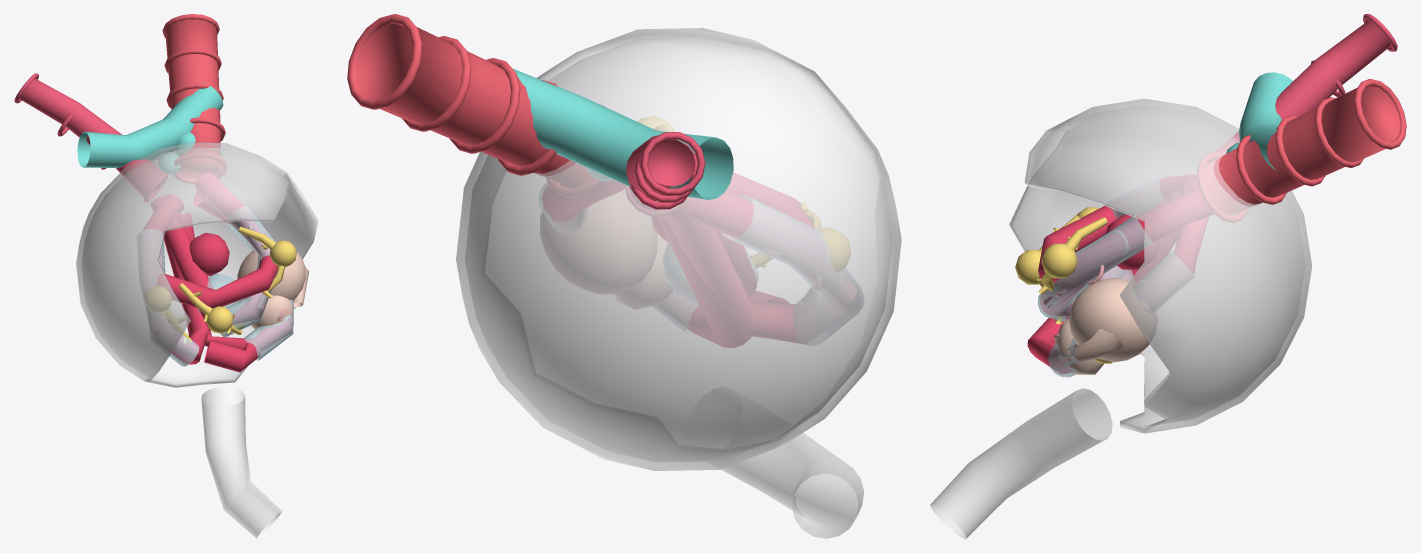
The model's file is submodel_renal_nephron.glb.
3 renders of one model, left to right at view 1: azimuth 30°, elevation 25°; view 2: azimuth 150°, elevation 25°; view 3: azimuth 270°, elevation 25°, orthographic. The views are drawn at different scales.
Parts seen in each view (by area): view 1: Renal_Capsule_Bowman_Space, Renal_Glomerulus_CapillaryTuft, Renal_Arteriole_Afferent, Renal_Membrane_GBM, Renal_Apparatus_Juxtaglomerular, Renal_Arteriole_Efferent, Renal_Cell_Podocyte_Pedicels, Renal_Pathology_KimmelstielWilson; view 2: Renal_Capsule_Bowman_Space, Renal_Arteriole_Afferent, Renal_Glomerulus_CapillaryTuft, Renal_Membrane_GBM, Renal_Apparatus_Juxtaglomerular, Renal_Pathology_KimmelstielWilson, Renal_Arteriole_Efferent, Renal_Cell_Podocyte_Pedicels; view 3: Renal_Capsule_Bowman_Space, Renal_Arteriole_Afferent, Renal_Glomerulus_CapillaryTuft, Renal_Membrane_GBM, Renal_Pathology_KimmelstielWilson, Renal_Arteriole_Efferent, Renal_Cell_Podocyte_Pedicels, Renal_Apparatus_Juxtaglomerular, Renal_Glomerulus_EndotheliumFenestrated.
Boxes of the visible parts, bbox=[...] form: Renal_Capsule_Bowman_Space: bbox=[76, 142, 318, 538]; Renal_Glomerulus_CapillaryTuft: bbox=[143, 172, 291, 372]; Renal_Arteriole_Afferent: bbox=[162, 14, 227, 183]; Renal_Membrane_GBM: bbox=[137, 207, 293, 366]; Renal_Apparatus_Juxtaglomerular: bbox=[77, 83, 223, 174]; Renal_Arteriole_Efferent: bbox=[14, 73, 167, 202]; Renal_Cell_Podocyte_Pedicels: bbox=[145, 226, 296, 343]; Renal_Pathology_KimmelstielWilson: bbox=[237, 250, 308, 332]; Renal_Capsule_Bowman_Space: bbox=[456, 28, 901, 538]; Renal_Arteriole_Afferent: bbox=[347, 14, 604, 197]; Renal_Glomerulus_CapillaryTuft: bbox=[542, 173, 848, 347]; Renal_Membrane_GBM: bbox=[539, 183, 863, 345]; Renal_Apparatus_Juxtaglomerular: bbox=[487, 60, 733, 199]; Renal_Pathology_KimmelstielWilson: bbox=[540, 189, 672, 308]; Renal_Arteriole_Efferent: bbox=[624, 132, 705, 215]; Renal_Cell_Podocyte_Pedicels: bbox=[638, 116, 850, 295]; Renal_Capsule_Bowman_Space: bbox=[930, 98, 1312, 538]; Renal_Arteriole_Afferent: bbox=[1197, 79, 1406, 222]; Renal_Glomerulus_CapillaryTuft: bbox=[1027, 174, 1213, 373]; Renal_Membrane_GBM: bbox=[1037, 175, 1194, 377]; Renal_Pathology_KimmelstielWilson: bbox=[1054, 278, 1157, 374]; Renal_Arteriole_Efferent: bbox=[1208, 14, 1397, 163]; Renal_Cell_Podocyte_Pedicels: bbox=[1015, 207, 1112, 363]; Renal_Apparatus_Juxtaglomerular: bbox=[1226, 72, 1292, 171]; Renal_Glomerulus_EndotheliumFenestrated: bbox=[1043, 229, 1141, 367].
Bounding box in the file's own units: 0.0256 × 0.043 × 0.0364.
